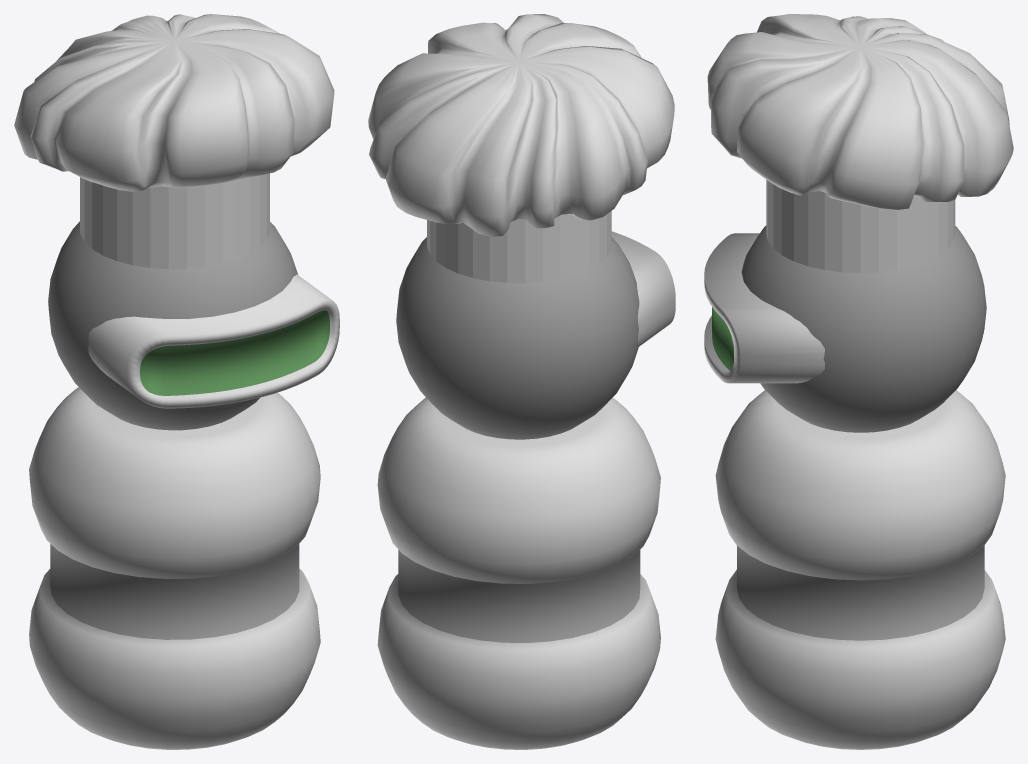
The model's file is LeChef.fbx.
3 views of the same model, side by side, from view 1: azimuth 30°, elevation 25°; view 2: azimuth 150°, elevation 25°; view 3: azimuth 270°, elevation 25° (orthographic). The views are drawn at different scales.
Visible parts, largest first — view 1: Body, Hat, Head; view 2: Body, Hat, Head; view 3: Body, Hat, Head.
Boxes of the visible parts, x1,y1,x2,y2 form: Body: (29,387,320,749); Hat: (14,14,334,269); Head: (48,221,339,430); Body: (377,397,660,749); Hat: (368,14,674,283); Head: (396,231,675,439); Body: (715,390,1005,749); Hat: (707,14,1013,273); Head: (704,225,986,432).
Size of the model in its own units: 81.27 by 190 by 80.06.
